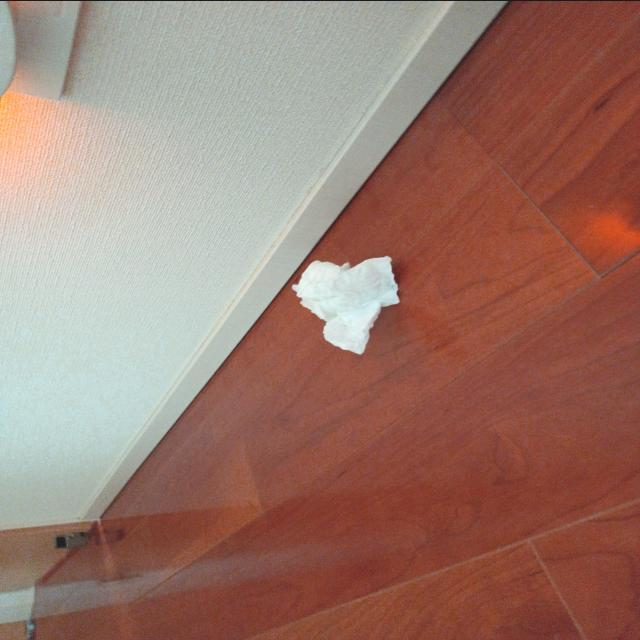Paper: (276, 250, 416, 370)
